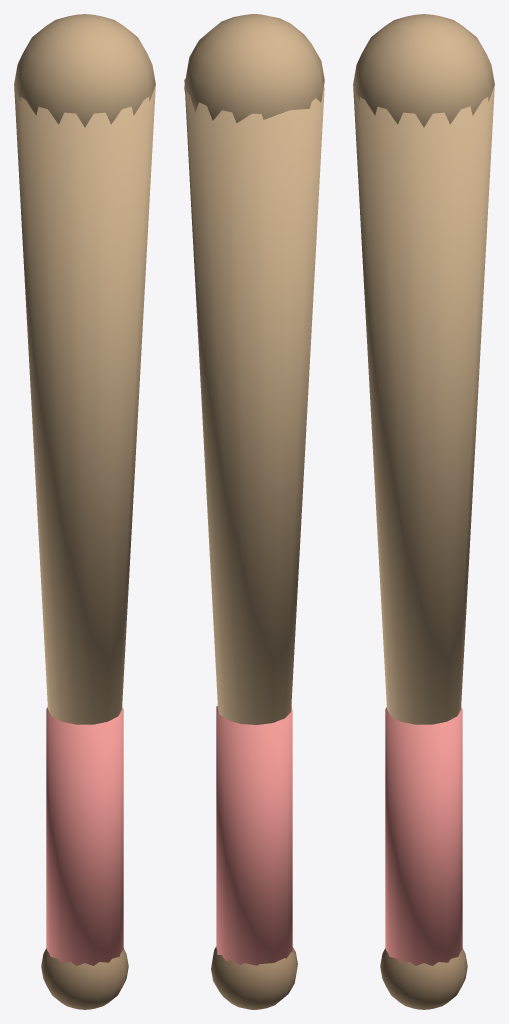
Rendered from VTool_Bat.fbx.
3 views of the same model, side by side, from view 1: azimuth 90°, elevation 25°; view 2: azimuth 210°, elevation 25°; view 3: azimuth 270°, elevation 25° (orthographic).
Visible parts, largest first — view 1: VTool_Bat; view 2: VTool_Bat; view 3: VTool_Bat.
Boxes of the visible parts, left/top/right/bottom form: VTool_Bat: left=14, top=14, right=155, bottom=1009; VTool_Bat: left=184, top=14, right=324, bottom=1009; VTool_Bat: left=353, top=14, right=494, bottom=1009.
Size of the model in its own units: 0.11 by 0.844 by 0.11.
